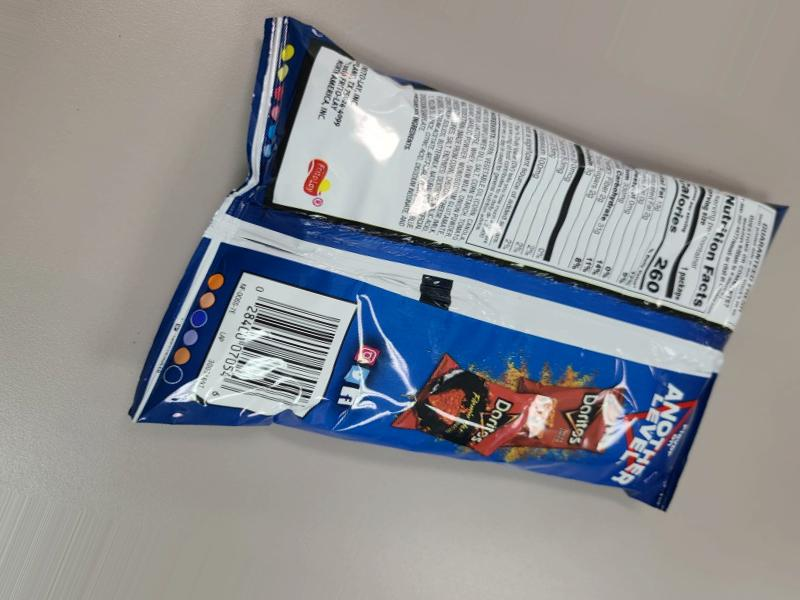doritos: (161, 17, 799, 492)
